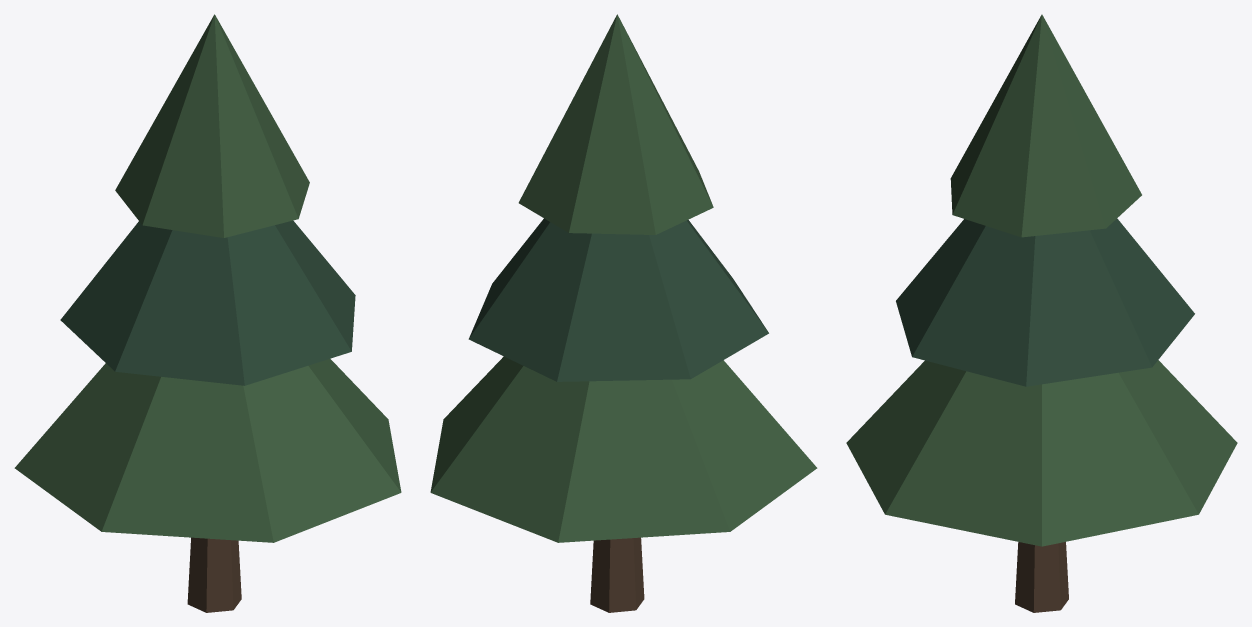
File: tree_pine.glb
3 renders of one model, left to right at view 1: azimuth 30°, elevation 25°; view 2: azimuth 150°, elevation 25°; view 3: azimuth 270°, elevation 25°, orthographic.
Visible parts, largest first — view 1: tree_pine; view 2: tree_pine; view 3: tree_pine.
Part boxes in pixels (left/top/right/bottom): tree_pine: left=14, top=14, right=401, bottom=612; tree_pine: left=430, top=14, right=817, bottom=612; tree_pine: left=846, top=14, right=1237, bottom=612.
Size of the model in its own units: 2.47 by 4.2 by 2.53.
